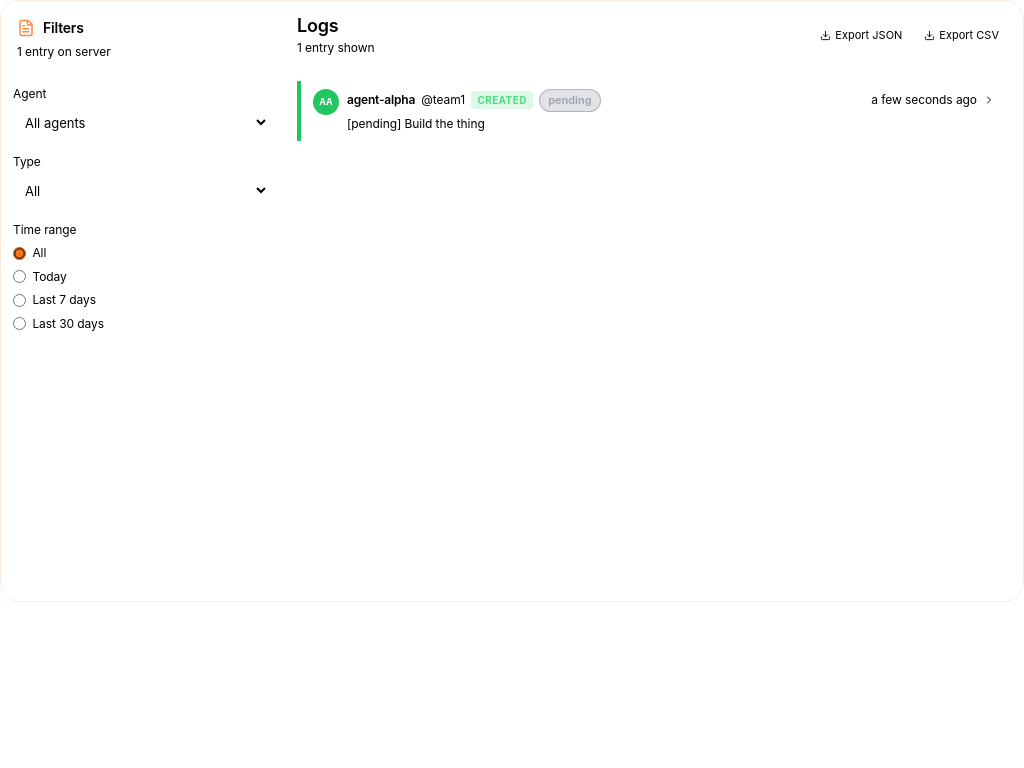
Test: LogViewer › row expand/collapse › clicking expanded row collapses it again
Check: the text "[pending] Build the thing" is shown, box [347,116,485,131]
Click the button that starts with "agent-alpha" at (381, 100), box [297,81,1007,141]
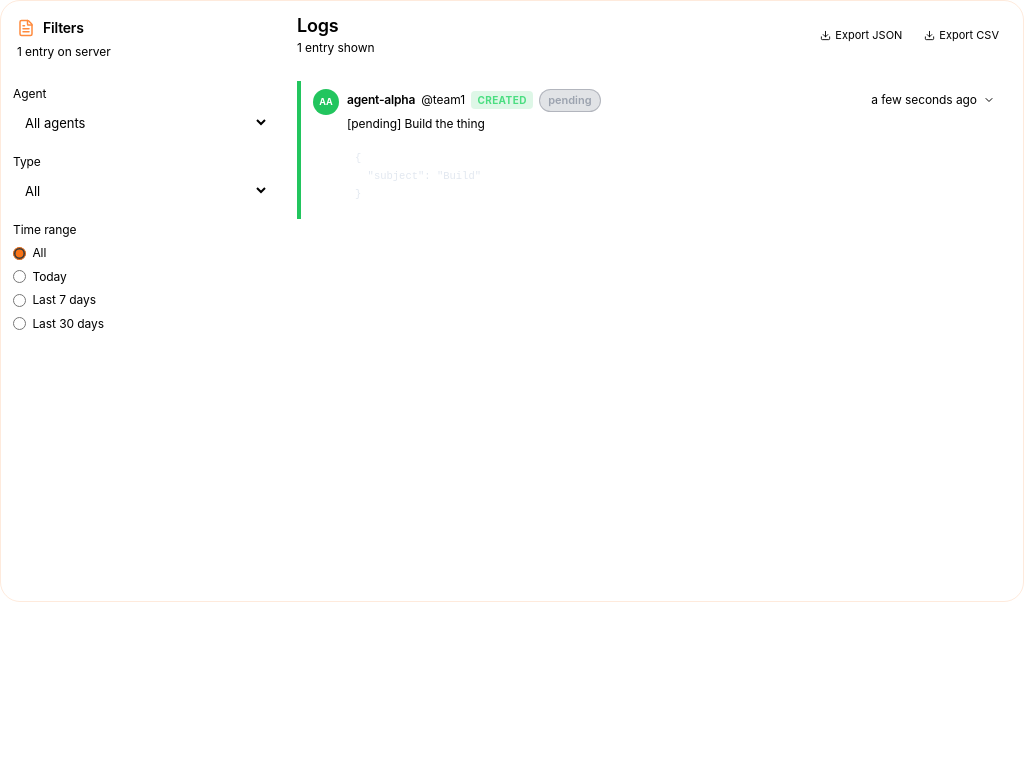
Check: the text "{ \"subject\": \"Build\" }" is shown, box [355,152,481,200]
Click the button that starts with "agent-alpha" at (381, 100), box [297,81,1007,219]
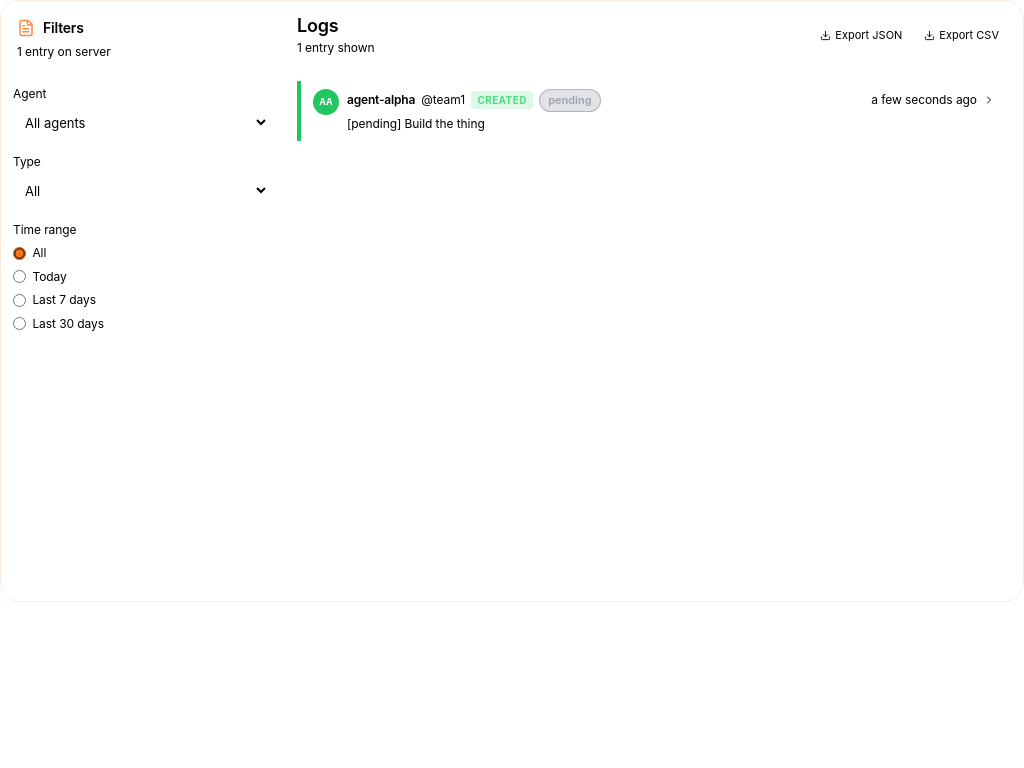
Check: the text "\"subject\": \"Build\"" is gone
